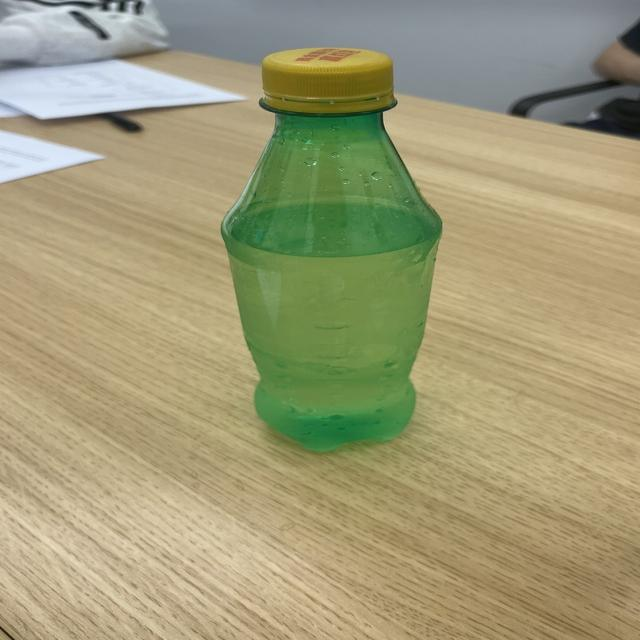high: (221, 47, 441, 451)
